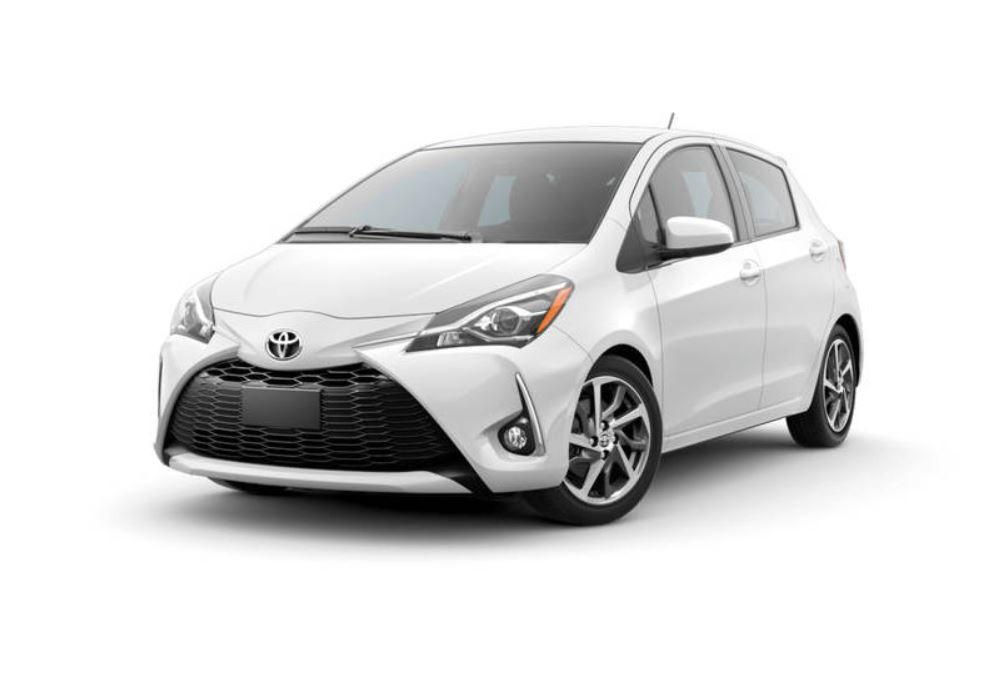windshield: (284, 126, 650, 246)
